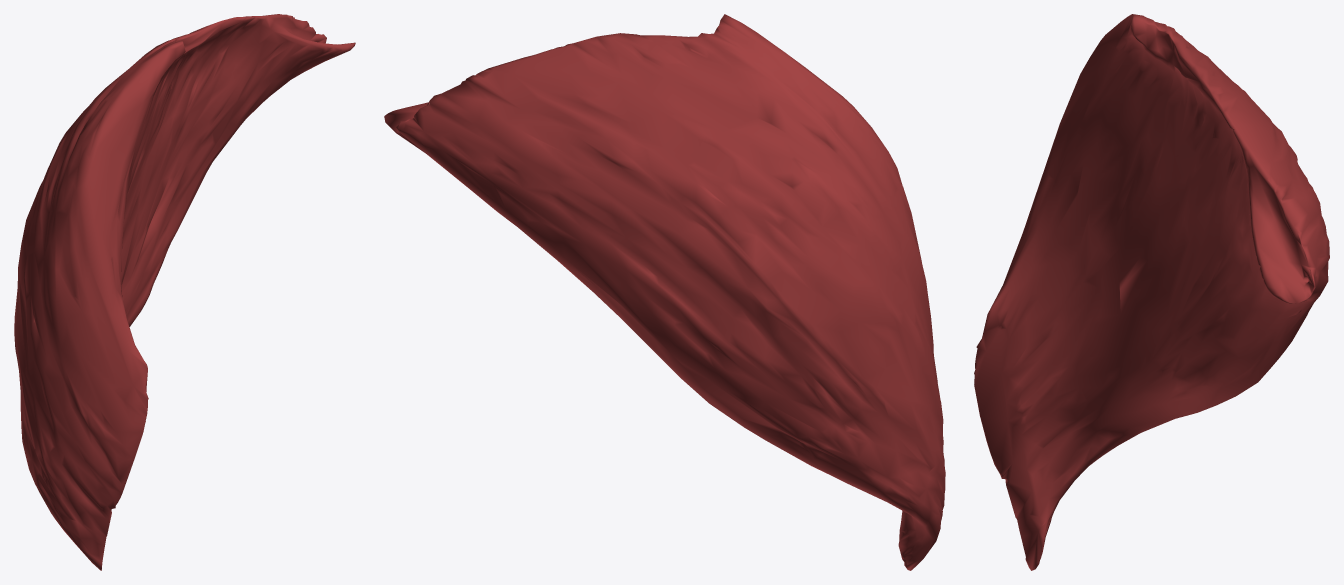
File: scapular-spinal-part-of-deltoid-muscle-r.glb
The picture shows the model from 3 angles, left to right: view 1: azimuth 30°, elevation 25°; view 2: azimuth 150°, elevation 25°; view 3: azimuth 270°, elevation 25°; orthographic projection. The views are drawn at different scales.
Visible parts, largest first — view 1: Scapular spinal part of deltoid muscle.r; view 2: Scapular spinal part of deltoid muscle.r; view 3: Scapular spinal part of deltoid muscle.r.
Part boxes in pixels (x1,y1,x2,y2): Scapular spinal part of deltoid muscle.r: (14, 14, 355, 570); Scapular spinal part of deltoid muscle.r: (384, 14, 945, 570); Scapular spinal part of deltoid muscle.r: (974, 14, 1329, 570).
Size of the model in its own units: 0.1368 by 0.1564 by 0.0801.
